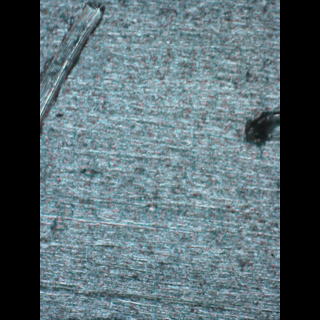d: (40, 2, 109, 143), (240, 107, 280, 152)
